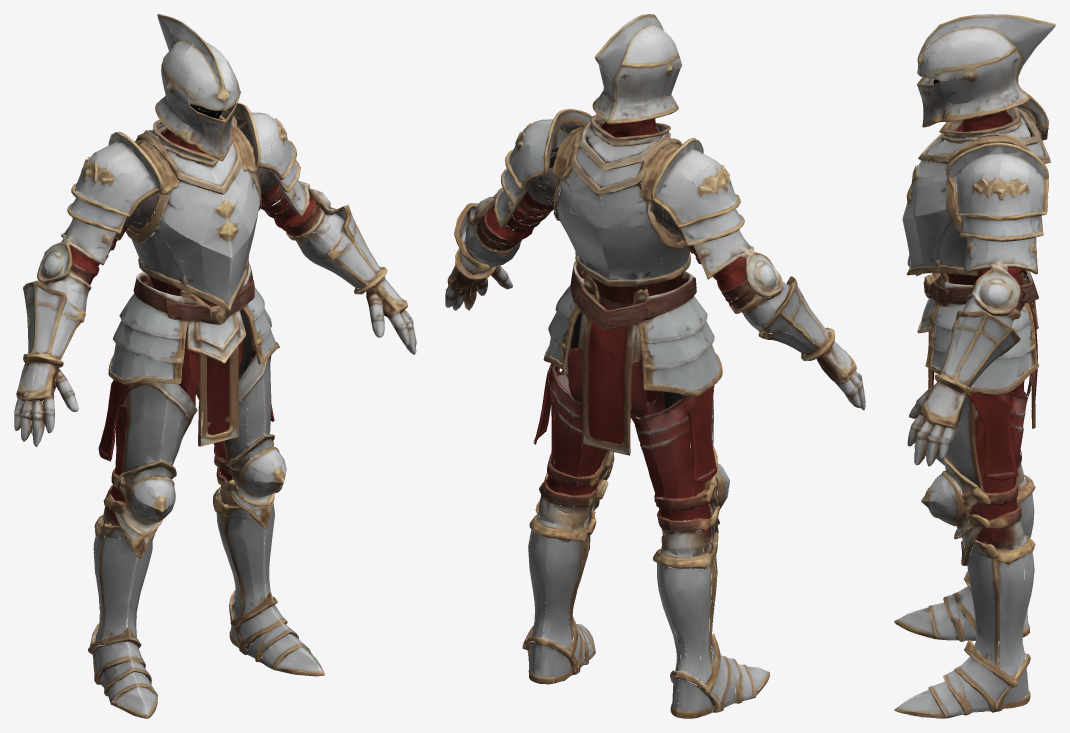
File: player_sunsteel_vanguard.glb
3 renders of one model, left to right at view 1: azimuth 30°, elevation 25°; view 2: azimuth 150°, elevation 25°; view 3: azimuth 270°, elevation 25°, orthographic. The views are drawn at different scales.
Visible parts, largest first — view 1: geometry_0; view 2: geometry_0; view 3: geometry_0.
Boxes of the visible parts, x1,y1,x2,y2 form: geometry_0: [14, 14, 416, 718]; geometry_0: [445, 14, 865, 718]; geometry_0: [894, 14, 1055, 718].
Size of the model in its own units: 1.3 by 2 by 0.4472.
Materials: 1 (1 with a texture image).
